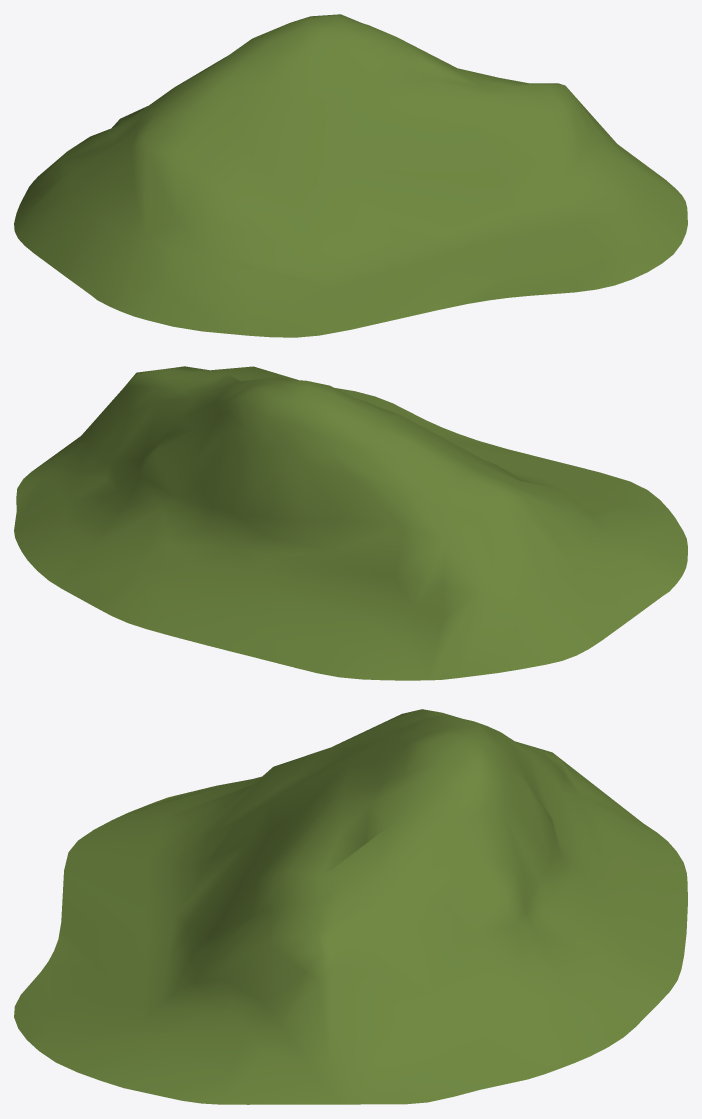
Rendered from rpgpp_ag_hill_background_02.fbx.
3 views of the same model, one above another, from view 1: azimuth 30°, elevation 25°; view 2: azimuth 150°, elevation 25°; view 3: azimuth 270°, elevation 25° (orthographic). The views are drawn at different scales.
Parts seen in each view (by area): view 1: rpgpp_ag_hill_background_02; view 2: rpgpp_ag_hill_background_02; view 3: rpgpp_ag_hill_background_02.
Part boxes in pixels (x1,y1,x2,y2): rpgpp_ag_hill_background_02: (14, 14, 687, 337); rpgpp_ag_hill_background_02: (14, 366, 687, 680); rpgpp_ag_hill_background_02: (14, 709, 687, 1104).
Bounding box in the file's own units: 89.91 × 25.7 × 77.5.
